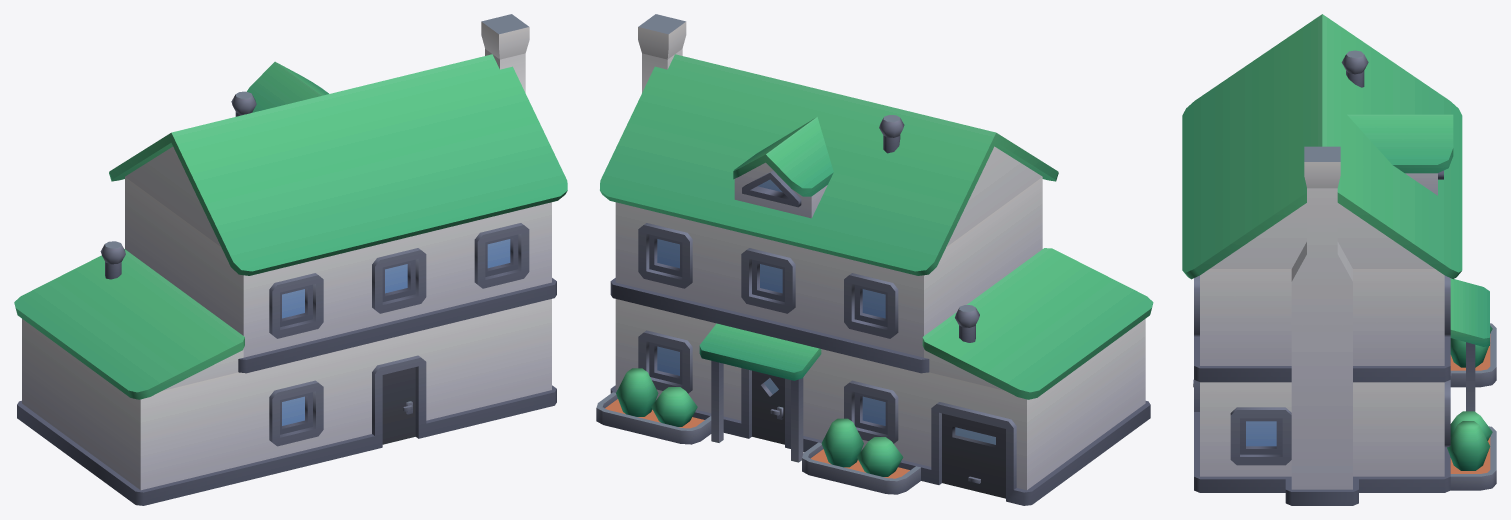
Rendered from k-city-kit-suburban-building-type-d.glb.
3 renders of one model, left to right at view 1: azimuth 30°, elevation 25°; view 2: azimuth 150°, elevation 25°; view 3: azimuth 270°, elevation 25°, orthographic. The views are drawn at different scales.
Visible parts, largest first — view 1: building-type-d; view 2: building-type-d; view 3: building-type-d.
Boxes of the visible parts, left/top/right/bottom form: building-type-d: left=14, top=14, right=567, bottom=505; building-type-d: left=596, top=14, right=1153, bottom=505; building-type-d: left=1182, top=14, right=1496, bottom=505.
Bounding box in the file's own units: 1.76 × 1.24 × 1.03.
Materials: 1 (1 with a texture image).
